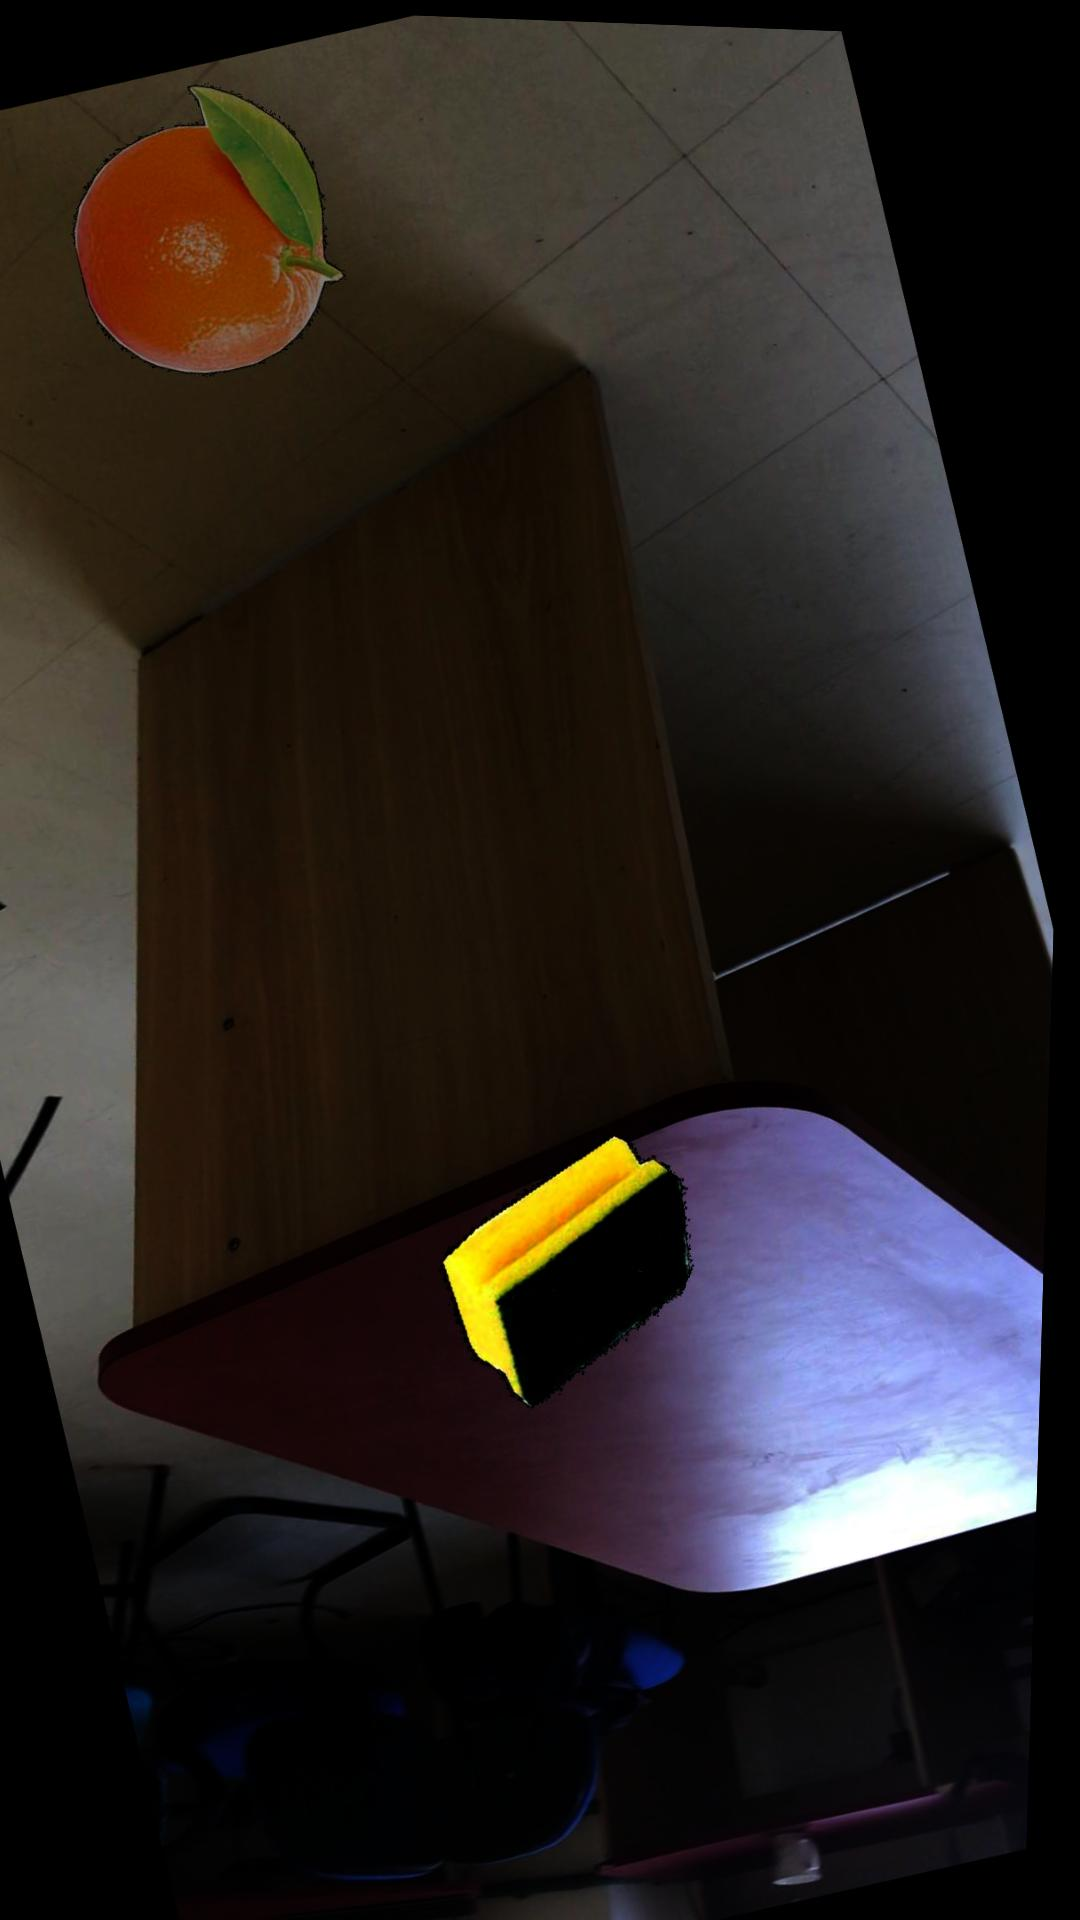orange: (74, 84, 345, 375)
sponge: (446, 1130, 699, 1406)
